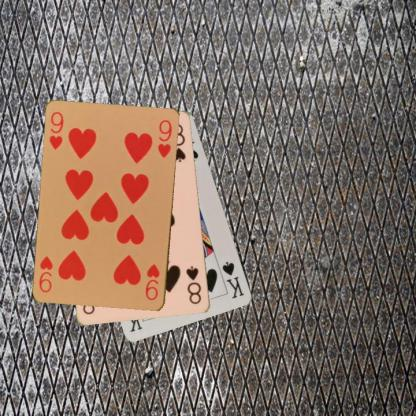8s: (184, 263, 203, 306)
9h: (47, 110, 65, 152), (143, 262, 161, 302)
Ks: (219, 259, 245, 300)
